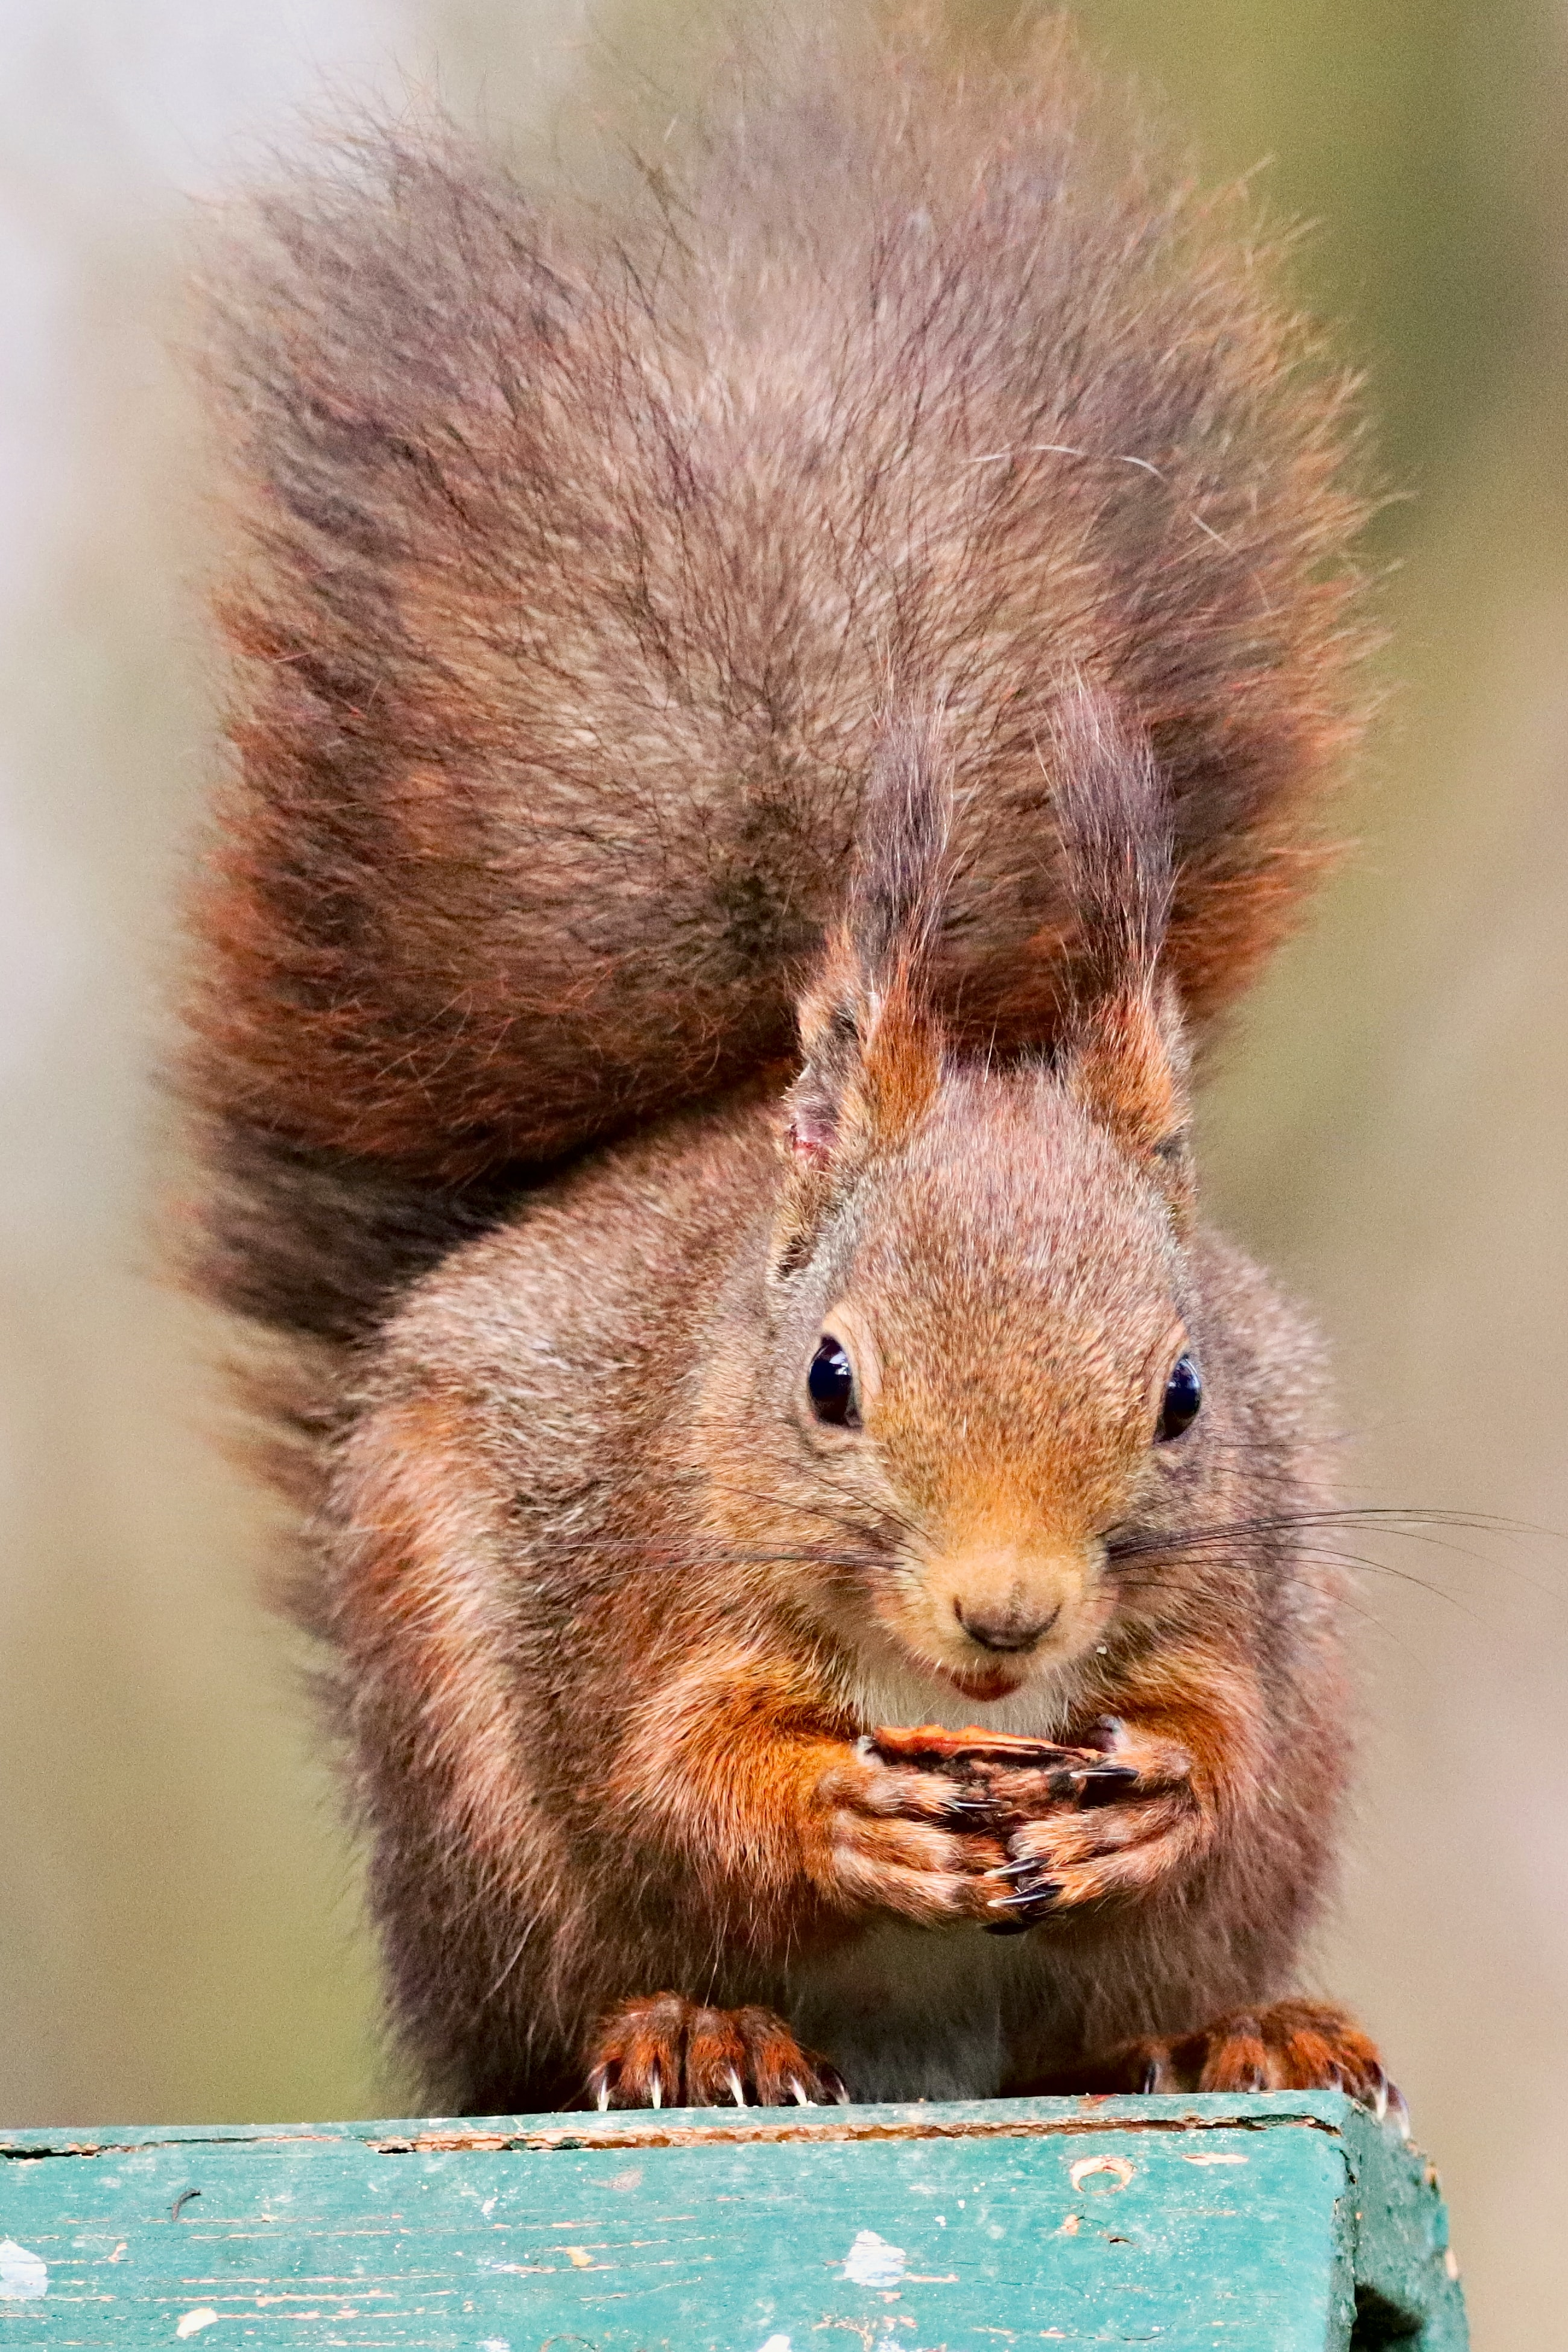squirrel: (280, 318, 1414, 2110)
